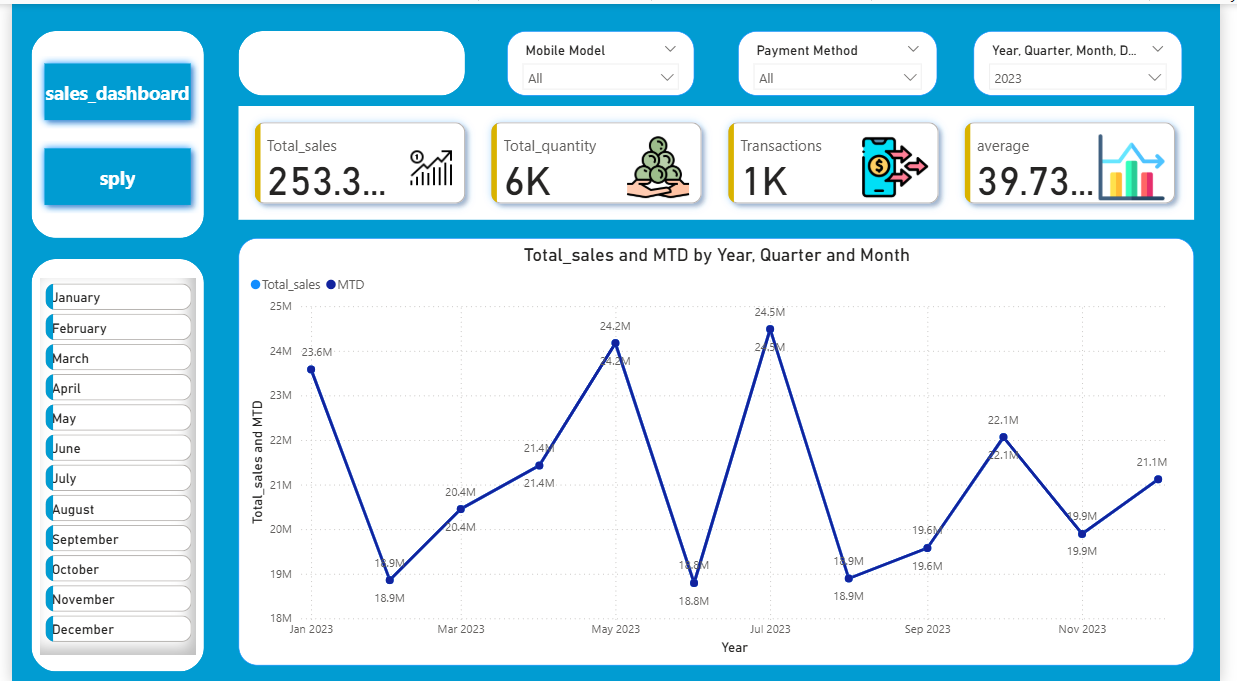

This screenshot's page, from the dashboard's own definition file:
{"tool":"powerbi","page":{"name":"MTD REPORT","canvas":[1280,720],"ordinal":1},"visuals":[{"type":"shape","box":[20.7,28.6,182.9,219.5],"z":0},{"type":"cardVisual","fields":{"Data":["sales_data.Total_sales","sales_data.Total_quantity","sales_data.Transactions","sales_data.average"]},"box":[240.2,108.2,1013.2,120.9],"z":3000},{"type":"slicer","fields":{"Values":["sales_data.Mobile Model"]},"box":[524.9,28.6,198.8,68.4],"z":4000},{"type":"slicer","fields":{"Values":["sales_data.Payment Method"]},"box":[769.9,28.6,211.6,68.4],"z":5000},{"type":"slicer","fields":{"Values":["custom_calendar.date.Variation.Date Hierarchy.Year","custom_calendar.date.Variation.Date Hierarchy.Quarter","custom_calendar.date.Variation.Date Hierarchy.Month","custom_calendar.date.Variation.Date Hierarchy.Day"]},"box":[1019.6,28.6,221.1,68.4],"z":6000},{"type":"shape","box":[240.2,28.6,240.2,68.4],"z":7000},{"type":"lineChart","fields":{"Category":["custom_calendar.date.Variation.Date Hierarchy.Year","custom_calendar.date.Variation.Date Hierarchy.Quarter","custom_calendar.date.Variation.Date Hierarchy.Month","custom_calendar.date.Variation.Date Hierarchy.Day"],"Y":["sales_data.Total_sales","sales_data.MTD"]},"box":[240.2,248.1,1013.2,453.3],"z":7001},{"type":"shape","box":[20.7,270.4,182.9,437.4],"z":7002},{"type":"advancedSlicerVisual","fields":{"Values":["custom_calendar.date.Variation.Date Hierarchy.Month"]},"box":[30.2,291.1,165.4,399.2],"z":7003},{"type":"pageNavigator","box":[25.4,54.1,173.4,168.6],"z":7004}]}

Visuals, with their boxes in screenshot pixels (x1, y1, x2, y2), scaled from the page's 1280x720 canvas onto the 1237x681 screenshot:
shape: [left=20, top=27, right=197, bottom=235]
cardVisual - sales_data.Total_sales x sales_data.Total_quantity: [left=232, top=102, right=1211, bottom=217]
slicer - sales_data.Mobile Model: [left=507, top=27, right=699, bottom=92]
slicer - sales_data.Payment Method: [left=744, top=27, right=949, bottom=92]
slicer - custom_calendar.date.Variation.Date Hierarchy.Year x custom_calendar.date.Variation.Date Hierarchy.Quarter: [left=985, top=27, right=1199, bottom=92]
shape: [left=232, top=27, right=464, bottom=92]
lineChart - custom_calendar.date.Variation.Date Hierarchy.Year x custom_calendar.date.Variation.Date Hierarchy.Quarter: [left=232, top=235, right=1211, bottom=663]
shape: [left=20, top=256, right=197, bottom=669]
advancedSlicerVisual - custom_calendar.date.Variation.Date Hierarchy.Month: [left=29, top=275, right=189, bottom=653]
pageNavigator: [left=25, top=51, right=192, bottom=211]
